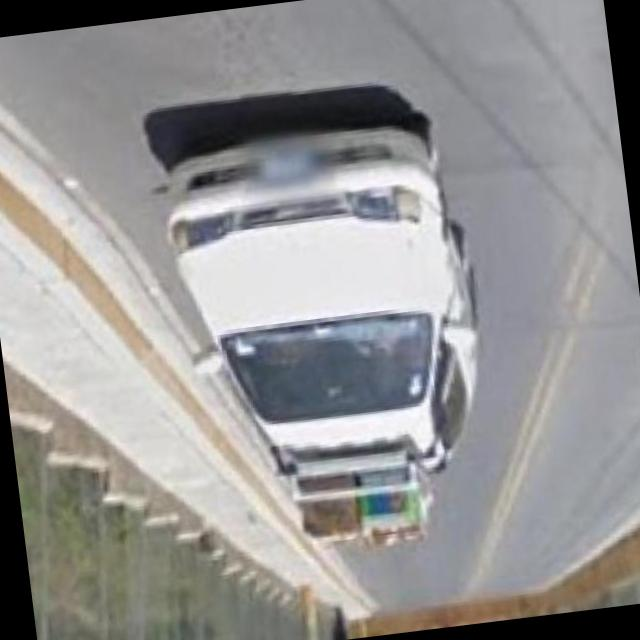car: (154, 79, 498, 534)
